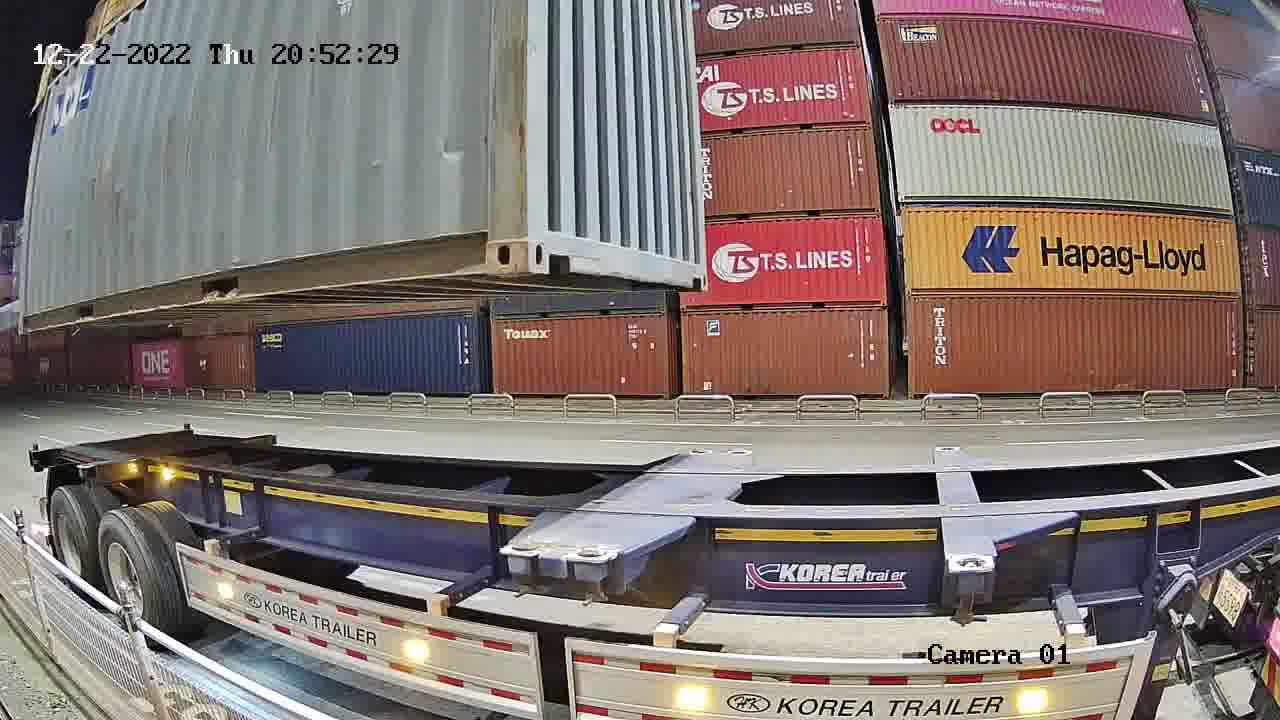Chassis: (501, 450, 710, 559), (574, 451, 753, 563)
Cone: (575, 548, 609, 604), (507, 542, 537, 595)
Hole_L: (527, 203, 581, 273)
Hole_R: (453, 202, 527, 275), (684, 249, 708, 292)
Tire: (99, 515, 165, 642), (50, 492, 92, 595)
